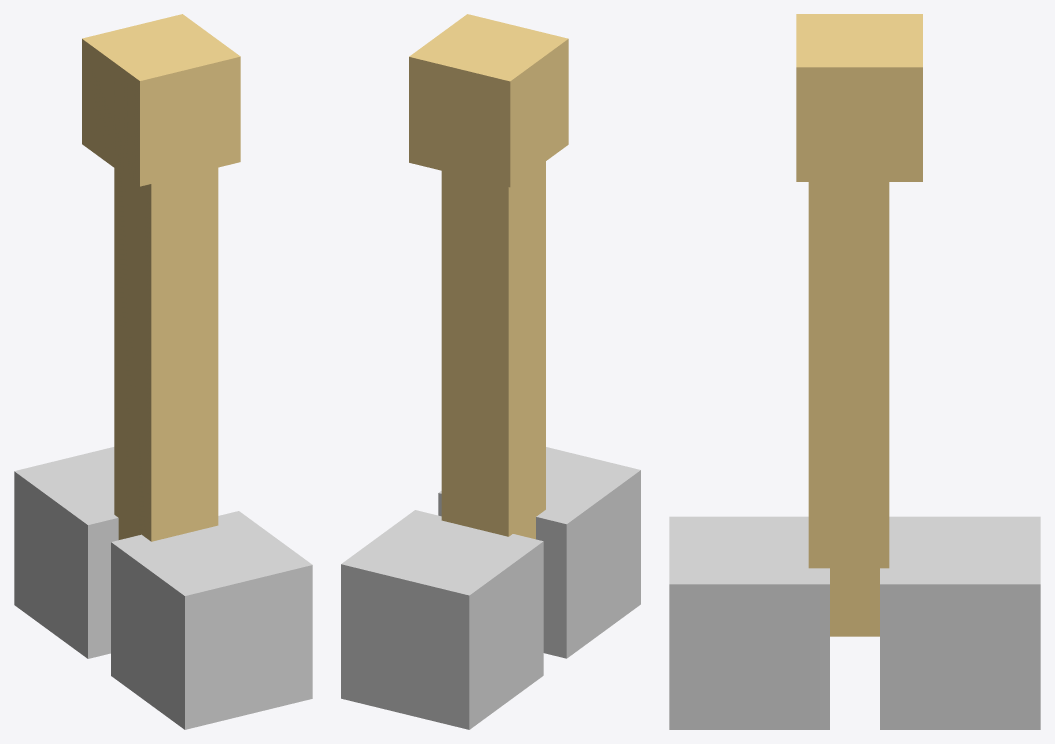
Rendered from weinor.glb.
The picture shows the model from 3 angles, left to right: view 1: azimuth 30°, elevation 25°; view 2: azimuth 150°, elevation 25°; view 3: azimuth 270°, elevation 25°; orthographic projection. The views are drawn at different scales.
Visible parts, largest first — view 1: Cube, Cube.001, Cube.003, Cube.002; view 2: Cube, Cube.002, Cube.003, Cube.001; view 3: Cube, Cube.002, Cube.001, Cube.003.
Boxes of the visible parts, x1,y1,x2,y2 form: Cube: (114, 167, 218, 541); Cube.001: (111, 511, 312, 729); Cube.003: (82, 14, 240, 186); Cube.002: (14, 447, 118, 658); Cube: (441, 161, 545, 539); Cube.002: (341, 510, 543, 729); Cube.003: (409, 14, 568, 187); Cube.001: (438, 447, 640, 658); Cube: (808, 182, 889, 636); Cube.002: (880, 516, 1040, 729); Cube.001: (669, 516, 829, 729); Cube.003: (796, 14, 922, 181).
Bounding box in the file's own units: 1.58 × 7.11 × 3.65.
2 materials, 2 textured.
